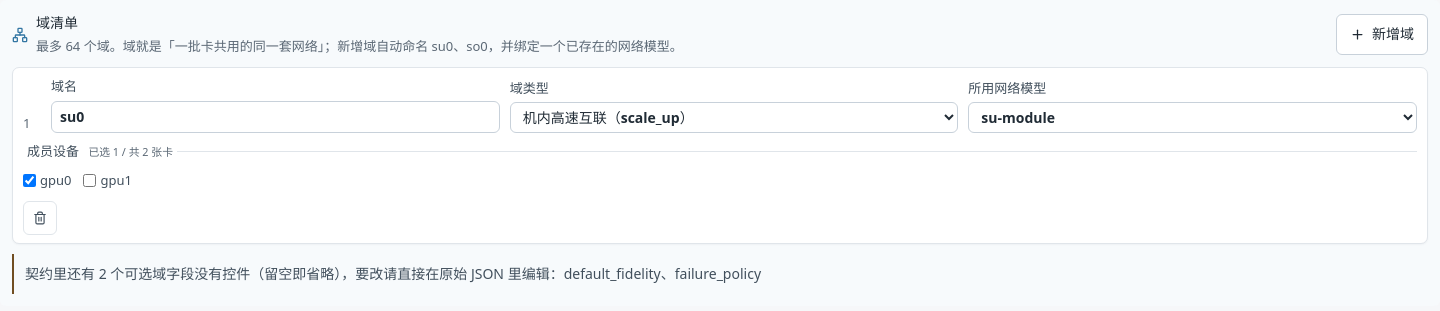
Test: domain list block › refuses to add a domain when there is no module to bind
Click the button "新增域". click: (1382, 35)
box: [1336, 14, 1428, 55]
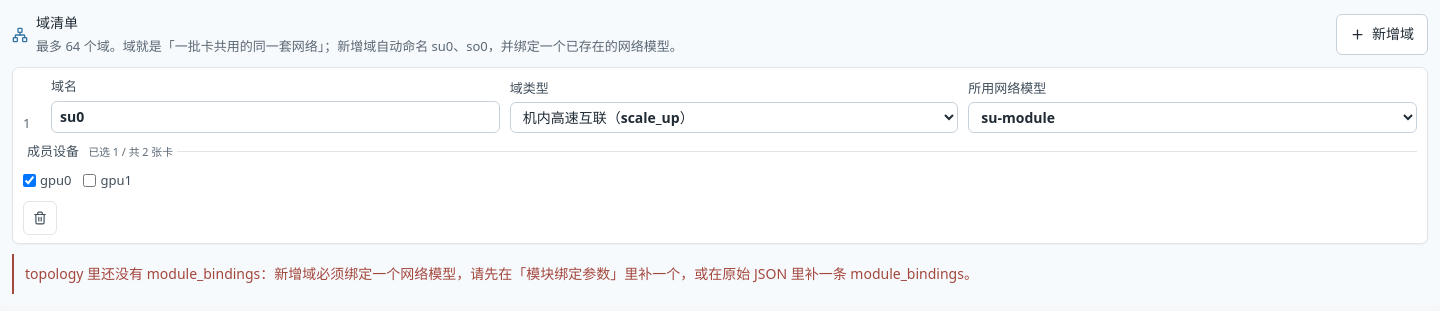
Expected: the message with class "structured-note--error" shows "module_bindings", [25, 264, 978, 283]
